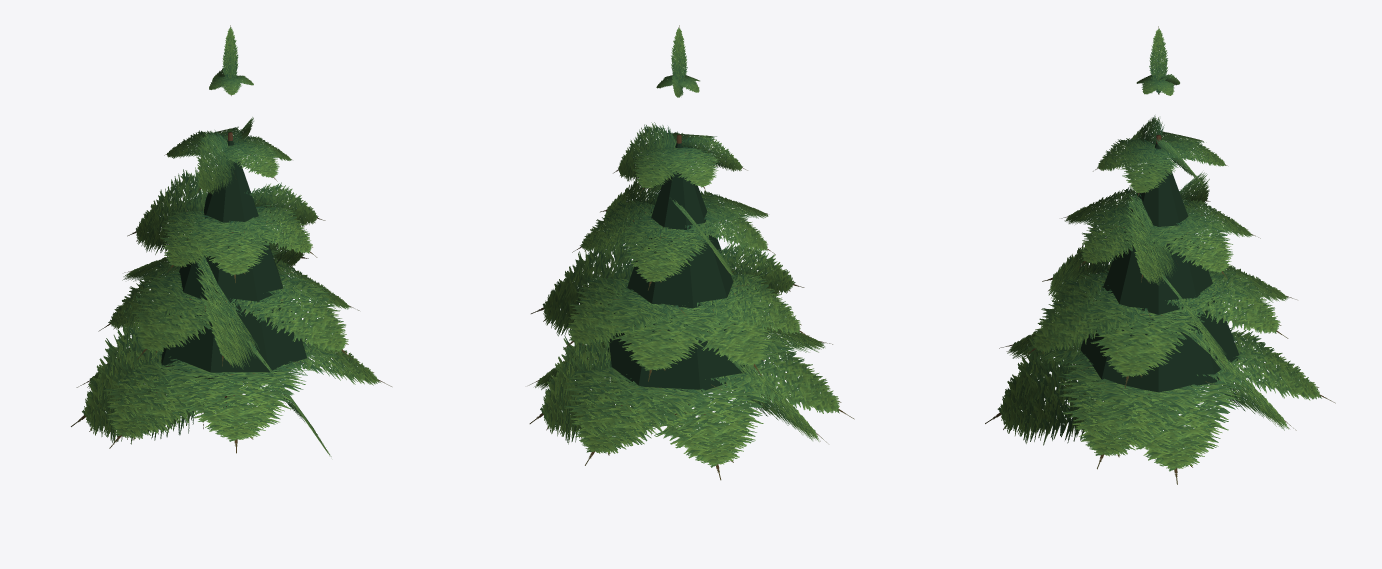
File: pine-a.glb
The picture shows the model from 3 angles, left to right: view 1: azimuth 30°, elevation 25°; view 2: azimuth 150°, elevation 25°; view 3: azimuth 270°, elevation 25°; orthographic projection. The views are drawn at different scales.
Parts seen in each view (by area): view 1: pine-a; view 2: pine-a; view 3: pine-a.
Part boxes in pixels (x1,y1,x2,y2): pine-a: (71, 25, 391, 456); pine-a: (528, 25, 854, 480); pine-a: (985, 26, 1335, 484).
Bounding box in the file's own units: 8.71 × 11.34 × 9.04.
3 materials, 1 textured.
